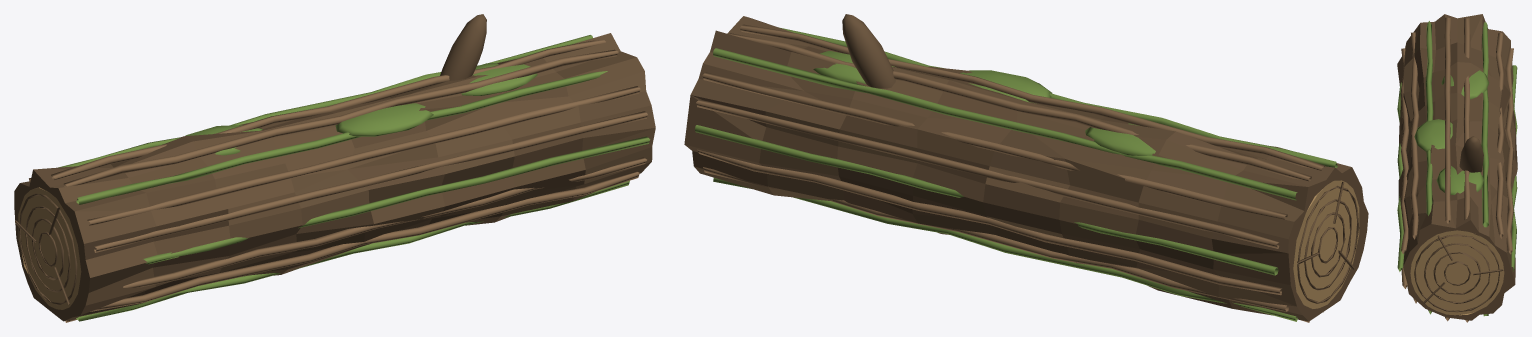
The model's file is log.glb.
The picture shows the model from 3 angles, left to right: view 1: azimuth 30°, elevation 25°; view 2: azimuth 150°, elevation 25°; view 3: azimuth 270°, elevation 25°; orthographic projection. The views are drawn at different scales.
Visible parts, largest first — view 1: LOG; view 2: LOG; view 3: LOG.
Part boxes in pixels (x1,y1,x2,y2): LOG: (14,14,655,322); LOG: (684,14,1368,322); LOG: (1397,14,1517,322).
Size of the model in its own units: 3.15 by 0.9931 by 0.7579.
